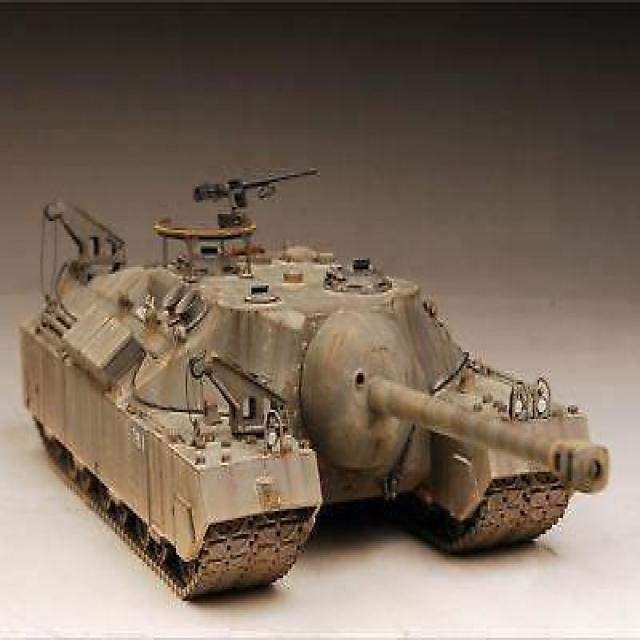Tanks: (17, 139, 609, 609)
